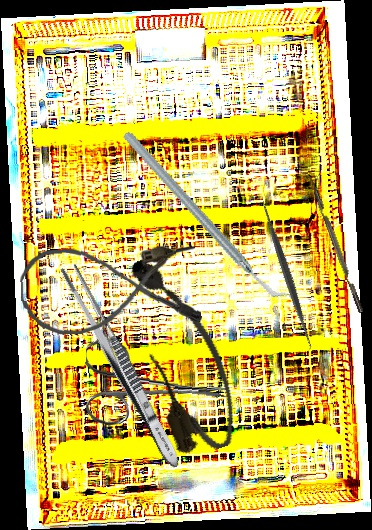Cannula: (117, 245, 248, 462), (18, 242, 203, 337)
Chopper: (121, 98, 292, 334), (300, 168, 364, 316)
Dressing Forceps: (55, 260, 188, 473)
Iris Scissors: (81, 338, 232, 433)
Spatula Surgical: (206, 195, 368, 355)
